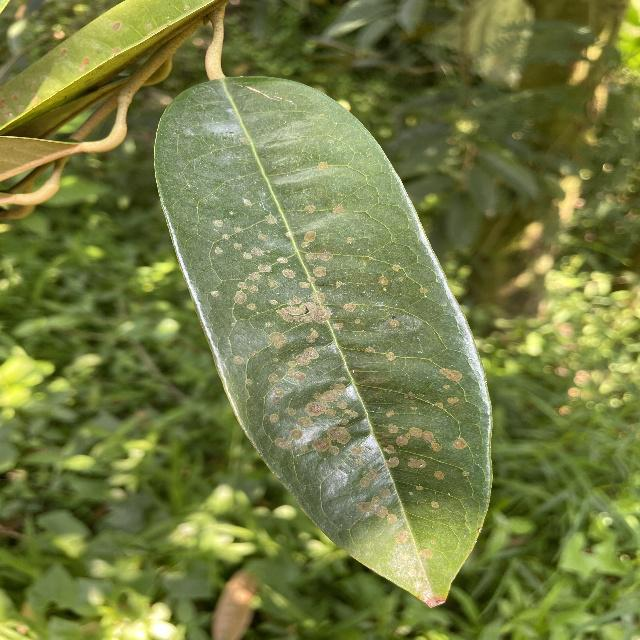Algal Leaf Spot: (143, 61, 509, 612)
